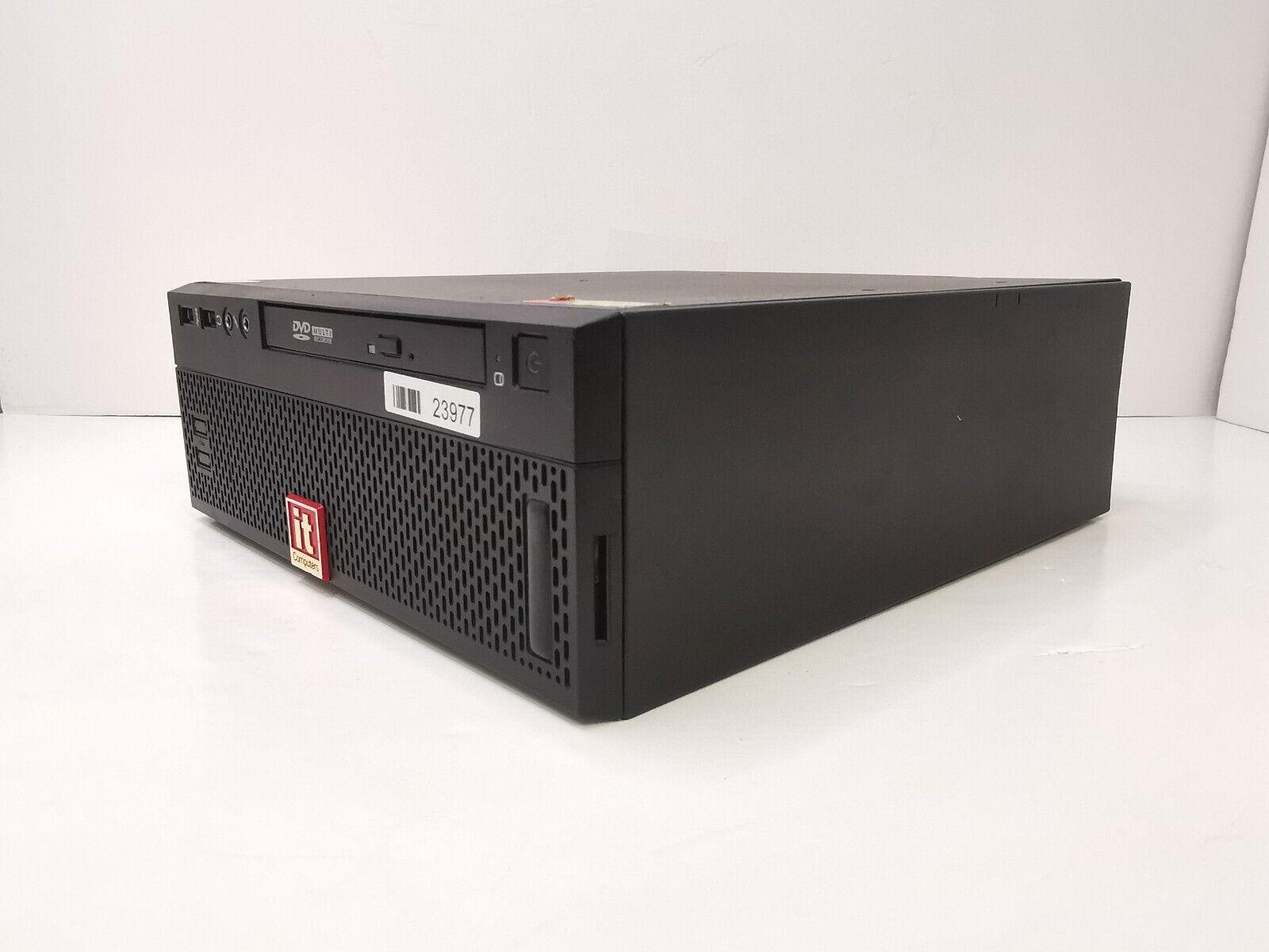DESKTOP PC: (165, 263, 1134, 725)
